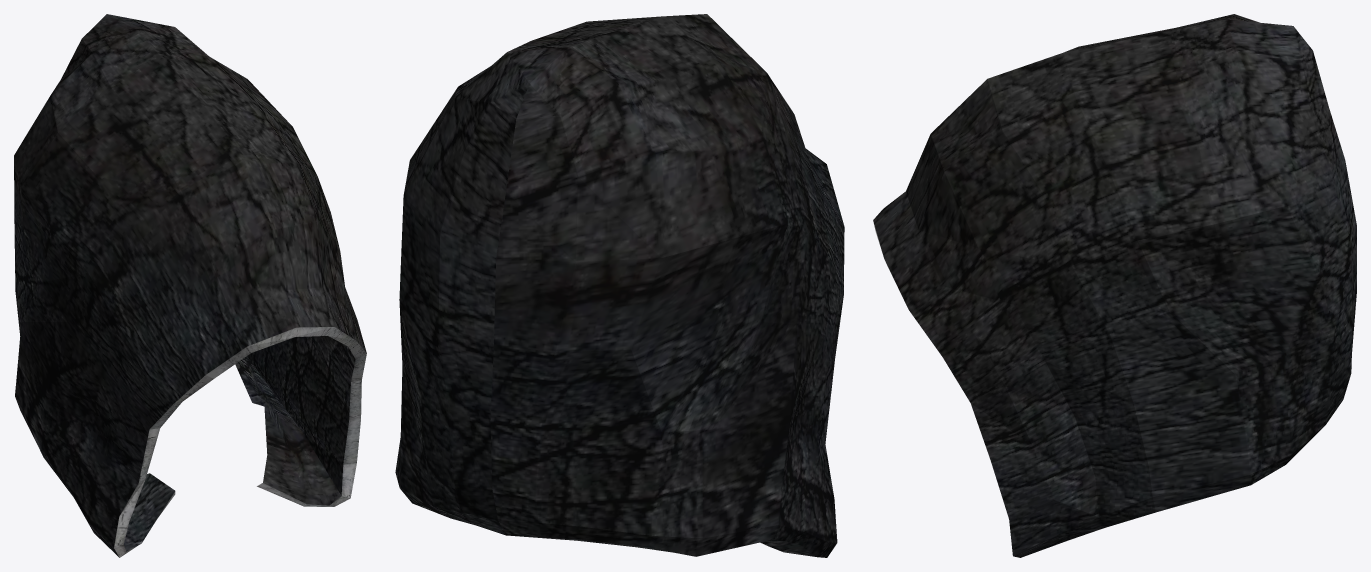
The model's file is ITHL_HOOD_S_THIEVESGUILD_MASTER.glb.
3 renders of one model, left to right at view 1: azimuth 30°, elevation 25°; view 2: azimuth 150°, elevation 25°; view 3: azimuth 270°, elevation 25°, orthographic. The views are drawn at different scales.
Visible parts, largest first — view 1: ITHL_HOOD_S_THIEVESGUILD_MASTER; view 2: ITHL_HOOD_S_THIEVESGUILD_MASTER; view 3: ITHL_HOOD_S_THIEVESGUILD_MASTER.
Part boxes in pixels (x1=…): ITHL_HOOD_S_THIEVESGUILD_MASTER: x1=14, y1=14, x2=366, y2=557; ITHL_HOOD_S_THIEVESGUILD_MASTER: x1=395, y1=14, x2=844, y2=557; ITHL_HOOD_S_THIEVESGUILD_MASTER: x1=873, y1=14, x2=1356, y2=557.
Bounding box in the file's own units: 0.2502 × 0.3943 × 0.3585.
Materials: 1 (1 with a texture image).
